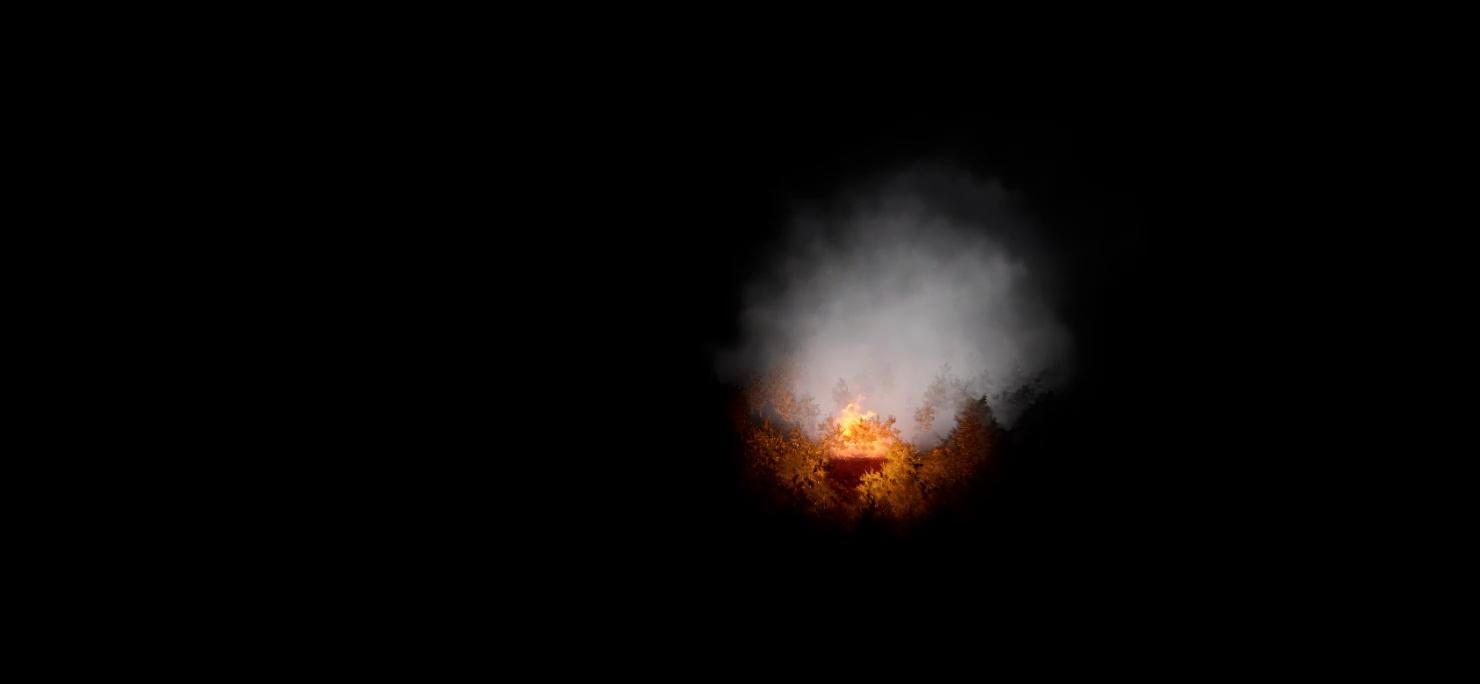fire: (816, 395, 913, 500)
smoke: (737, 176, 1069, 451)
